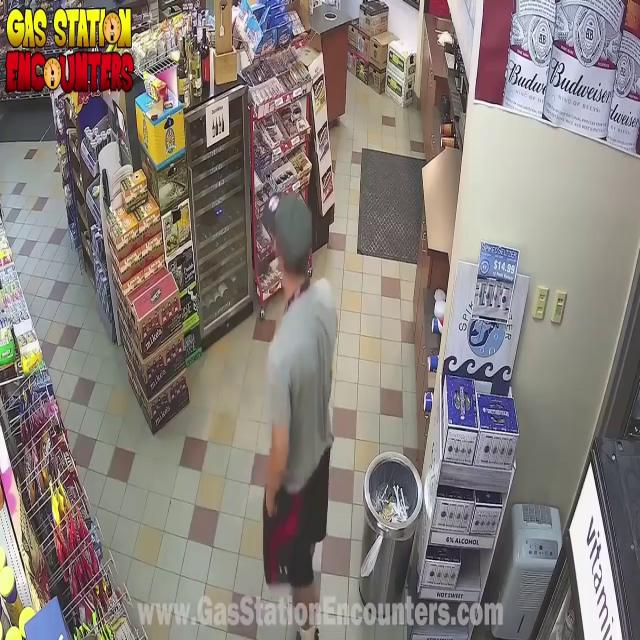normal: (187, 226, 369, 640)
